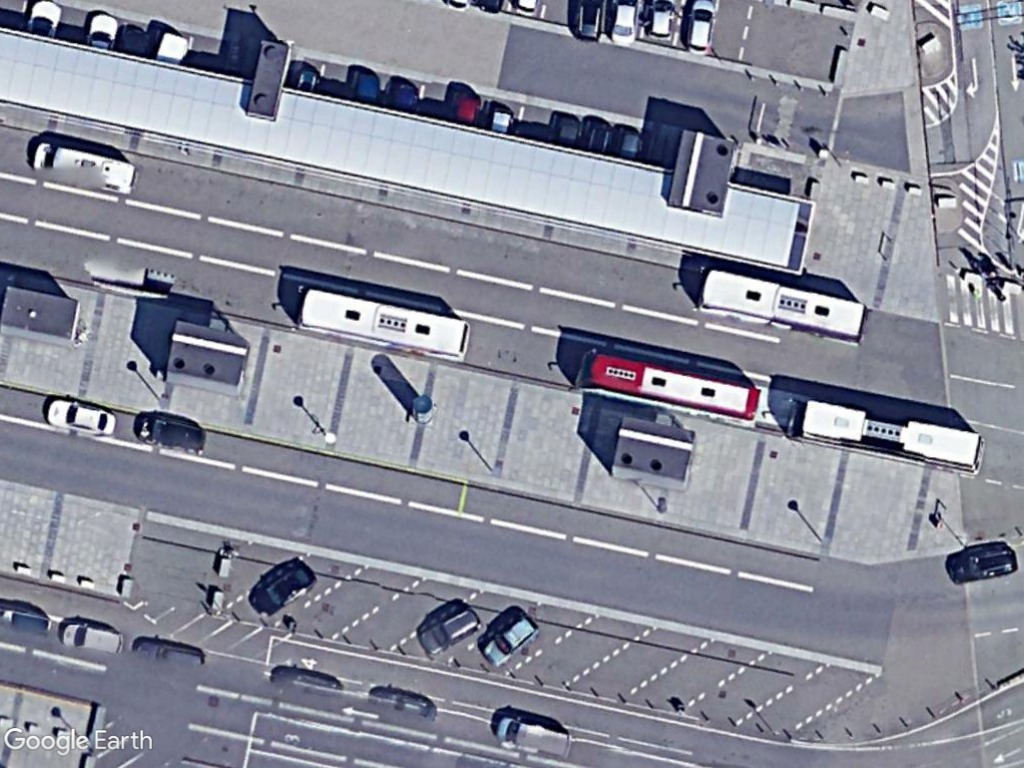bus: (785, 392, 993, 485), (565, 342, 771, 429), (691, 263, 874, 351), (291, 279, 476, 365)
car: (246, 553, 318, 620), (126, 401, 215, 454), (37, 391, 123, 444), (417, 600, 487, 661), (945, 538, 1022, 591), (480, 610, 542, 670), (57, 617, 134, 664)
